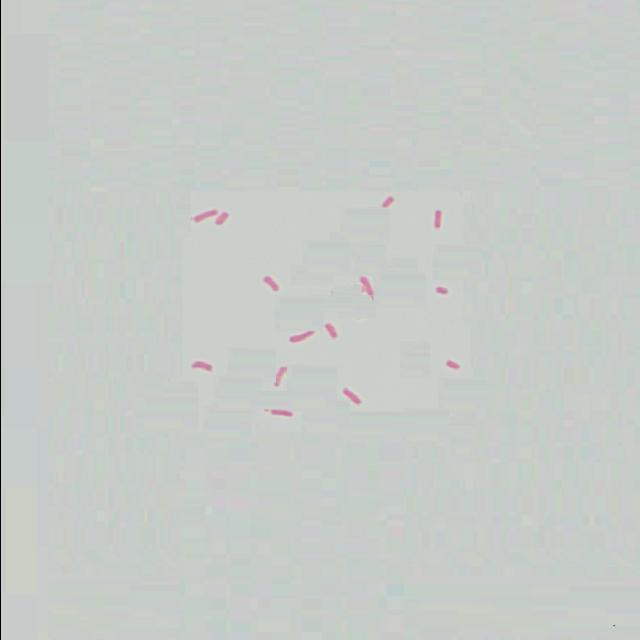E-coli: (269, 362, 289, 391), (354, 275, 379, 298), (185, 358, 215, 377), (189, 204, 217, 224), (339, 383, 362, 406), (260, 273, 286, 293), (321, 318, 341, 342), (427, 209, 447, 231), (289, 330, 315, 345), (268, 409, 298, 421), (378, 195, 396, 211), (443, 357, 463, 371), (216, 211, 232, 227), (435, 283, 451, 298)
